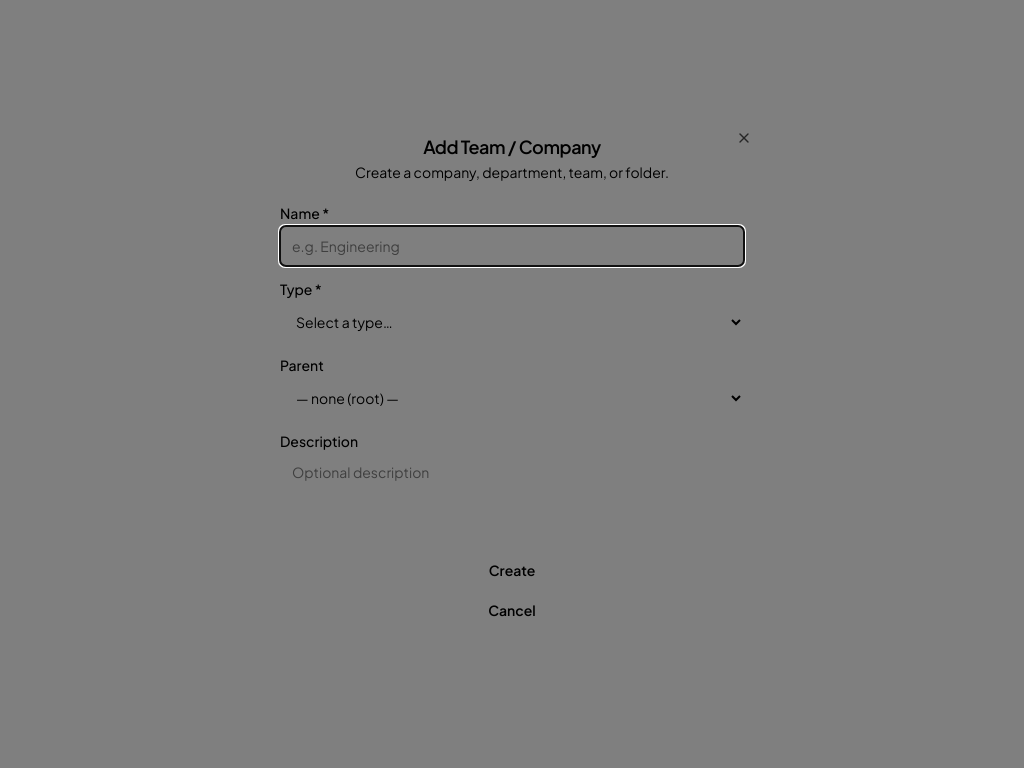
Test: AddTeamModal › (4) blocks submit when Type=Company but Parent is not root
The width and height of the screenshot is (1024, 768).
Type "Sneaky Co" into the field labelled "Name *" at x=512, y=246, box 280,226 -> 744,266
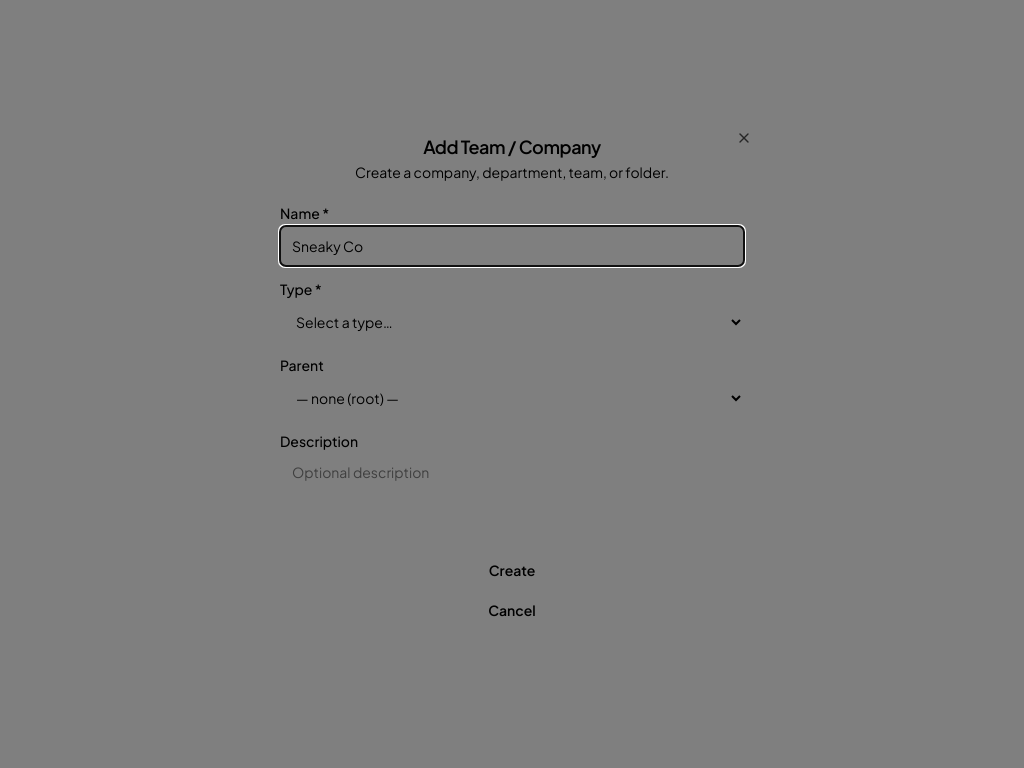
Parent: select Acme Corp (a company — not root)
Select "Acme Corp" in the dropdown with test id "select-parent" at x=512, y=398, box 280,378 -> 744,418
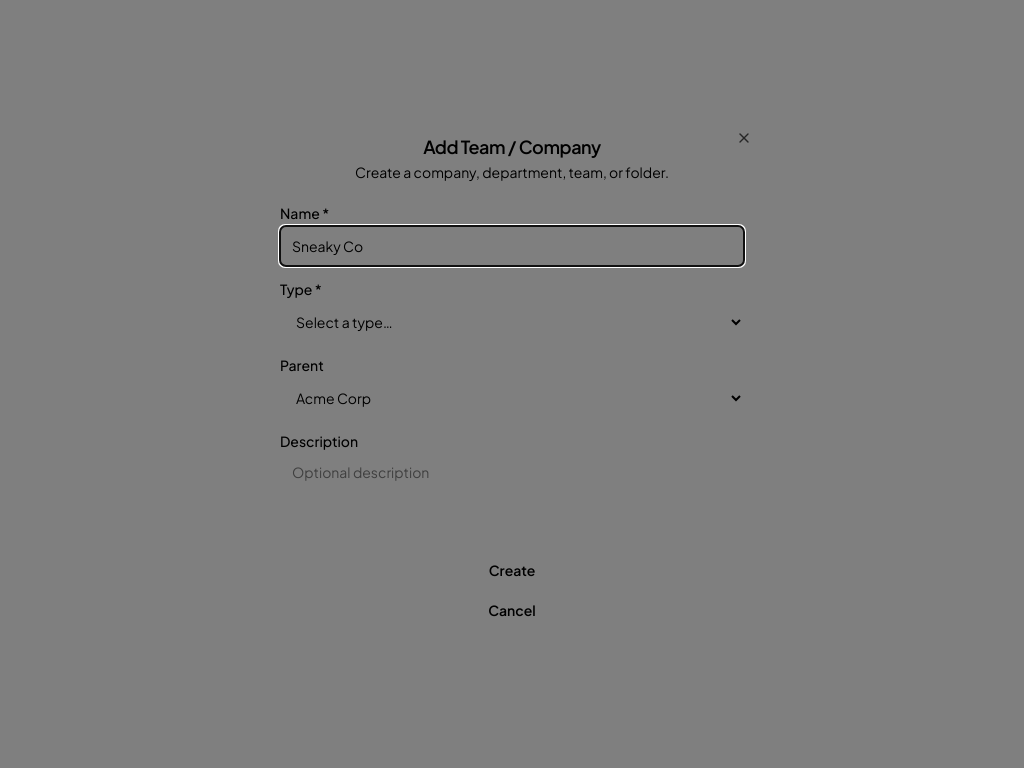
Type: Company (invalid combo)
Select "Company" in the dropdown with test id "select-type" at x=512, y=322, box 280,302 -> 744,342
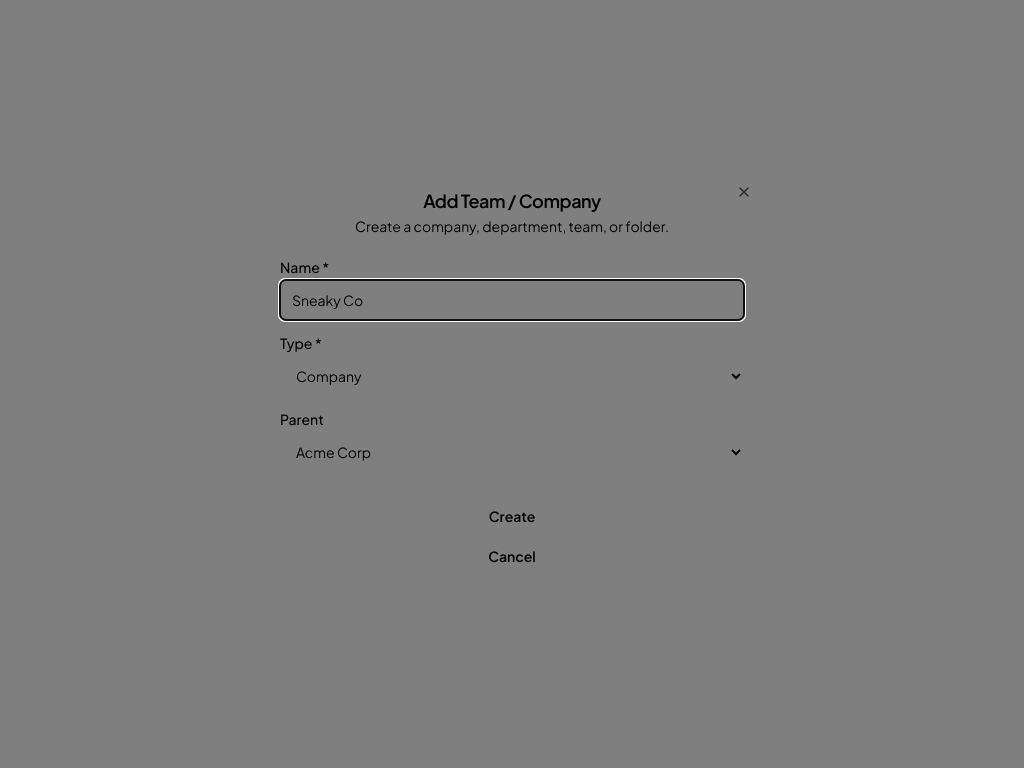
Attempt submit
Click the button "Create" at x=512, y=516, box 280,496 -> 744,536
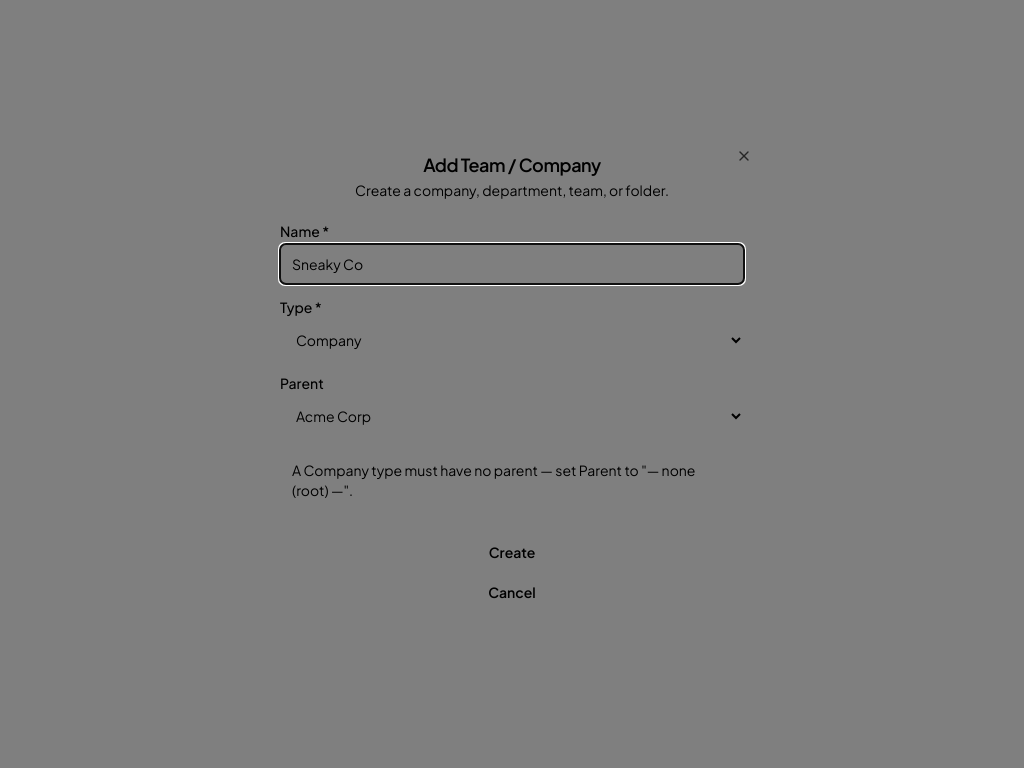
Result: the message reads "A Company type must have no parent — set Parent to \"— none (root) —\"." at 292,461 -> 695,499
